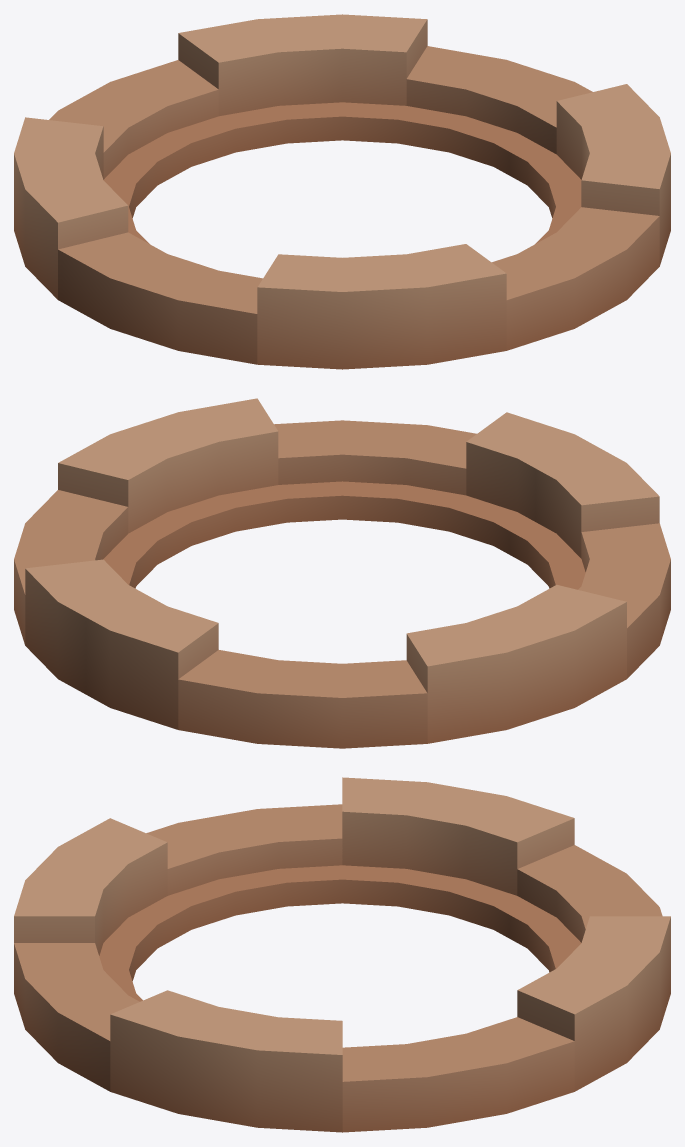
Rendered from tower-top.glb.
3 renders of one model, top to bottom at view 1: azimuth 30°, elevation 25°; view 2: azimuth 150°, elevation 25°; view 3: azimuth 270°, elevation 25°, orthographic.
Parts seen in each view (by area): view 1: tower-top; view 2: tower-top; view 3: tower-top.
Part boxes in pixels (x1,y1,x2,y2): tower-top: (14, 14, 670, 369); tower-top: (14, 398, 670, 748); tower-top: (14, 777, 670, 1132).
Bounding box in the file's own units: 1 × 0.13 × 1.
